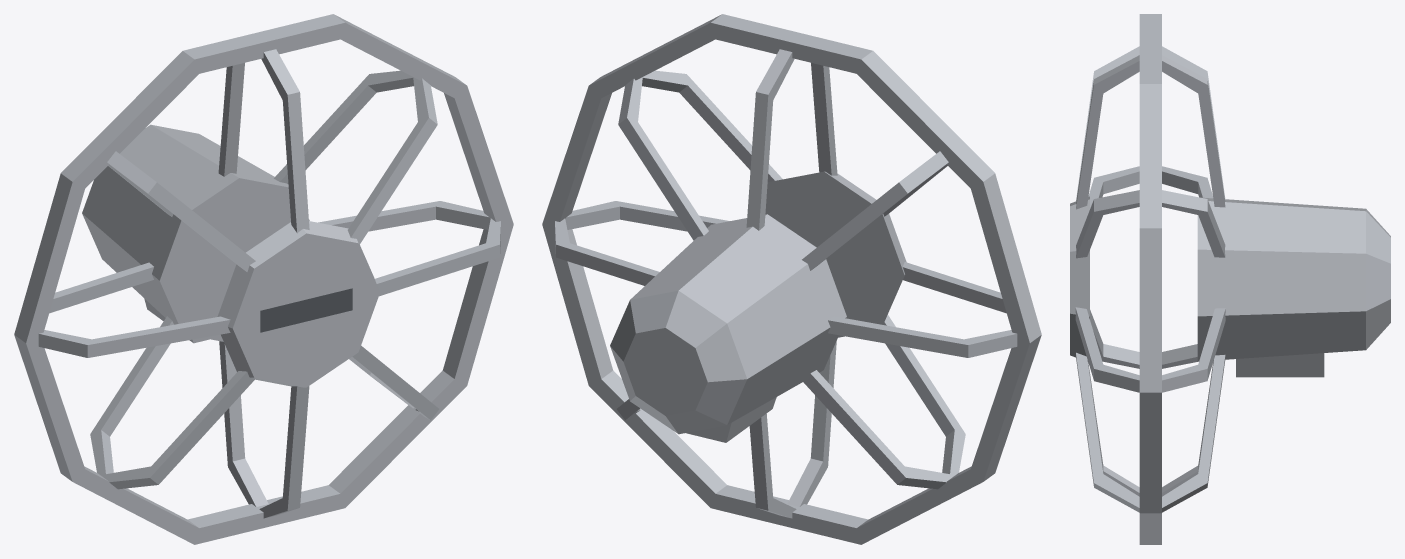
The model's file is SM_Prop_WallFan_Top_01.obj.
3 renders of one model, left to right at view 1: azimuth 30°, elevation 25°; view 2: azimuth 150°, elevation 25°; view 3: azimuth 270°, elevation 25°, orthographic. The views are drawn at different scales.
Parts seen in each view (by area): view 1: SM_Prop_WallFan_Top_01_0; view 2: SM_Prop_WallFan_Top_01_0; view 3: SM_Prop_WallFan_Top_01_0.
Boxes of the visible parts, x1,y1,x2,y2 form: SM_Prop_WallFan_Top_01_0: (14, 14, 513, 544); SM_Prop_WallFan_Top_01_0: (542, 14, 1041, 544); SM_Prop_WallFan_Top_01_0: (1070, 14, 1390, 544).
Size of the model in its own units: 0.6711 by 0.6383 by 0.4023.
Materials: 1 (1 with a texture image).
